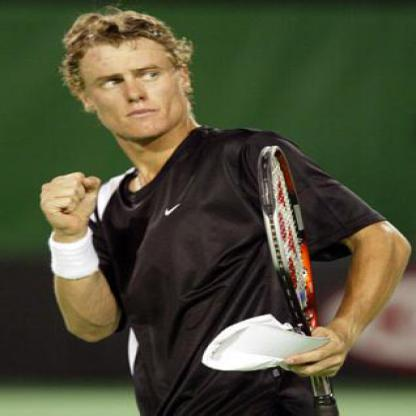face: (81, 18, 181, 143)
